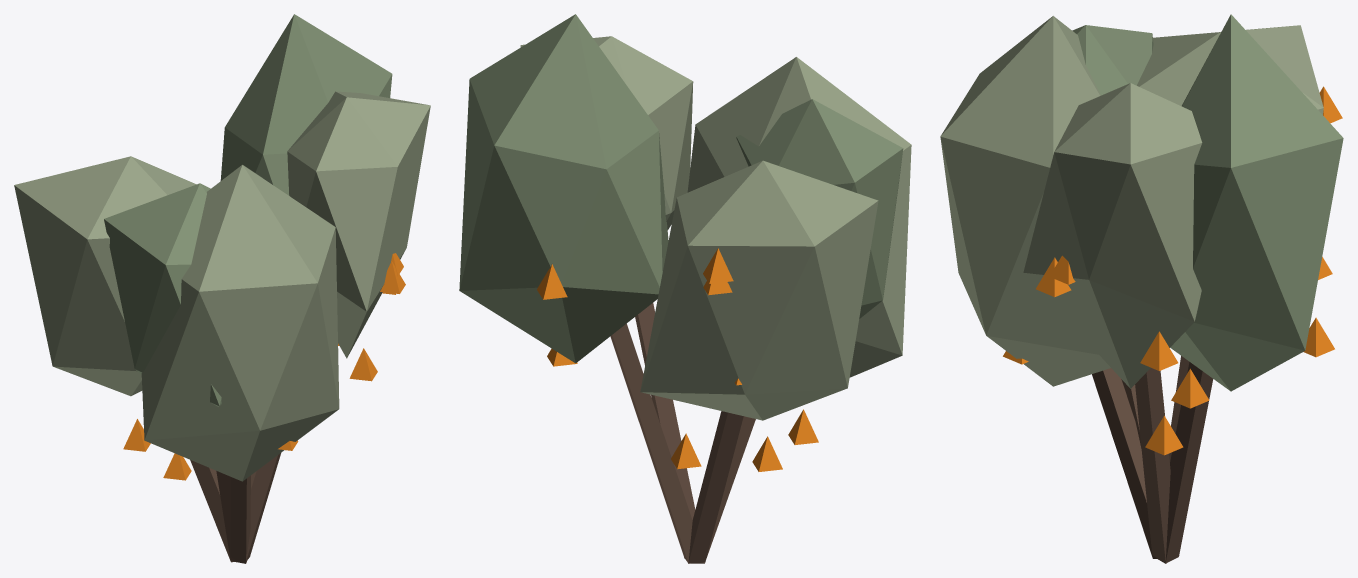
The model's file is havtorn_2.glb.
3 views of the same model, side by side, from view 1: azimuth 30°, elevation 25°; view 2: azimuth 150°, elevation 25°; view 3: azimuth 270°, elevation 25° (orthographic). The views are drawn at different scales.
Visible parts, largest first — view 1: havtorn_2; view 2: havtorn_2; view 3: havtorn_2.
Part boxes in pixels (x1,y1,x2,y2): havtorn_2: (14, 14, 430, 563); havtorn_2: (459, 14, 911, 563); havtorn_2: (940, 14, 1343, 563).
Size of the model in its own units: 1.76 by 2.44 by 1.51.
